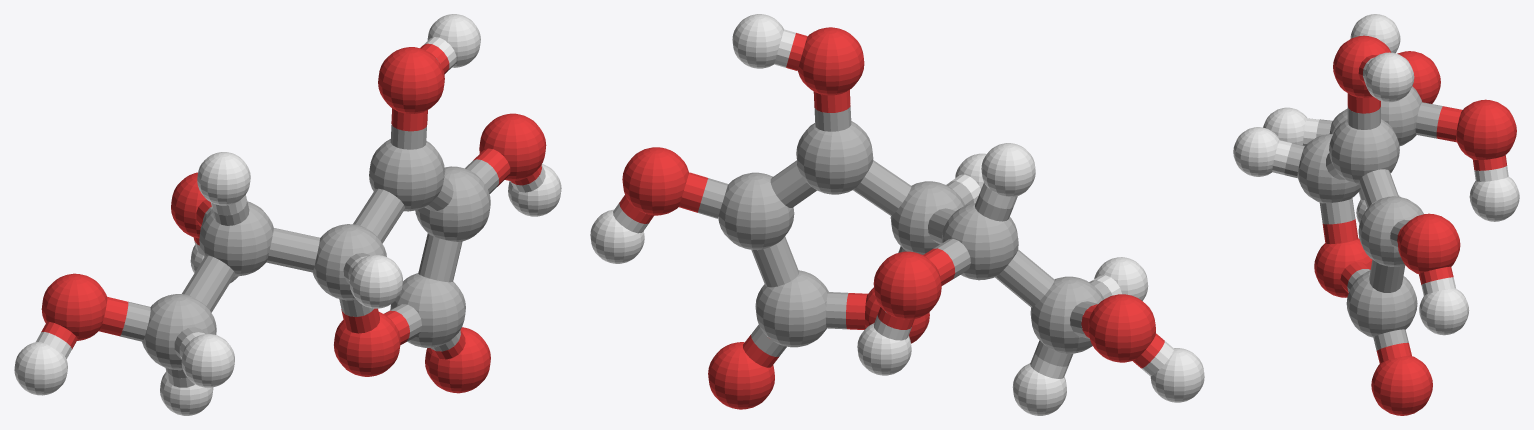
File: vitC.fbx
3 views of the same model, side by side, from view 1: azimuth 30°, elevation 25°; view 2: azimuth 150°, elevation 25°; view 3: azimuth 270°, elevation 25° (orthographic). The views are drawn at different scales.
Parts seen in each view (by area): view 1: ShapeCylinder.034; view 2: ShapeCylinder.034; view 3: ShapeCylinder.034.
Boxes of the visible parts, left/top/right/bottom form: ShapeCylinder.034: left=14, top=14, right=561, bottom=415; ShapeCylinder.034: left=590, top=14, right=1204, bottom=415; ShapeCylinder.034: left=1233, top=14, right=1519, bottom=415.
Size of the model in its own units: 876 by 561 by 412.
